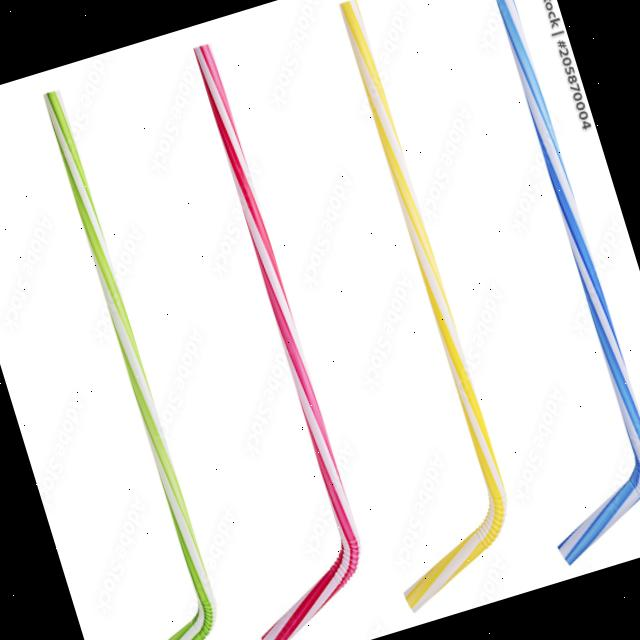plastic: (83, 29, 407, 640)
